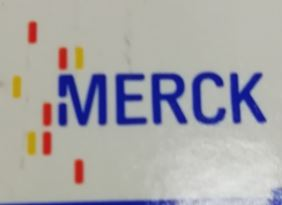Merck: (10, 19, 269, 188)
